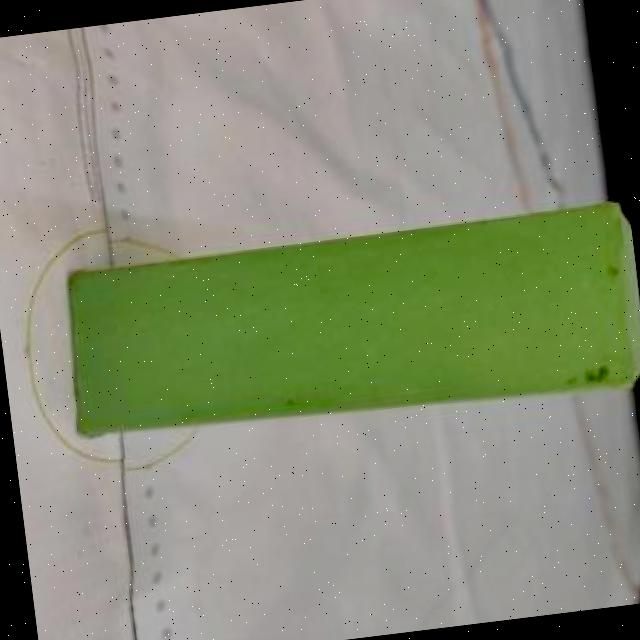greenbox: (55, 196, 640, 453)
